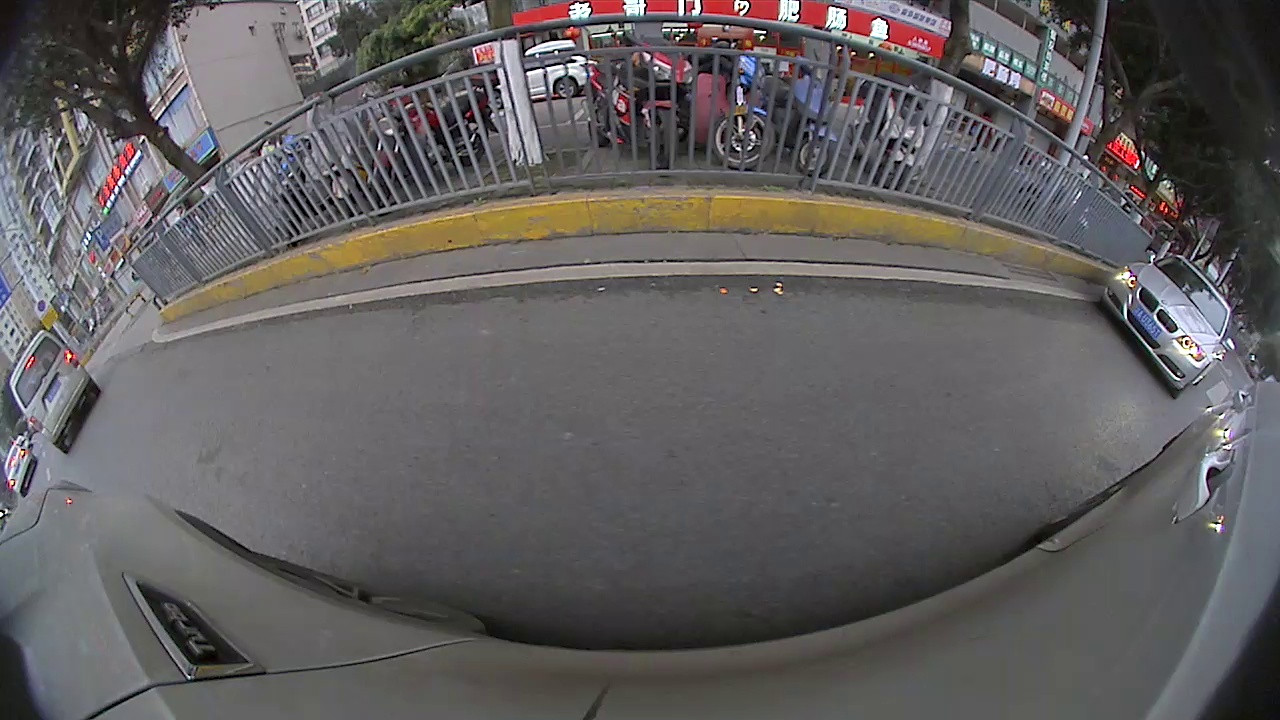car: (1098, 247, 1241, 403), (7, 330, 104, 457)
front: (711, 112, 776, 170), (793, 138, 833, 175)
rider: (362, 64, 509, 215), (587, 36, 693, 172), (695, 27, 779, 177), (858, 61, 931, 184), (767, 50, 836, 177)
